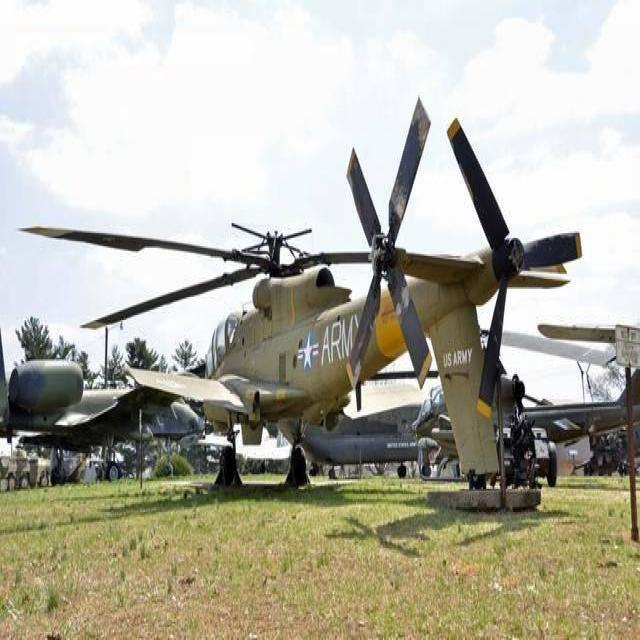MIL_HELO: (34, 95, 582, 492)
